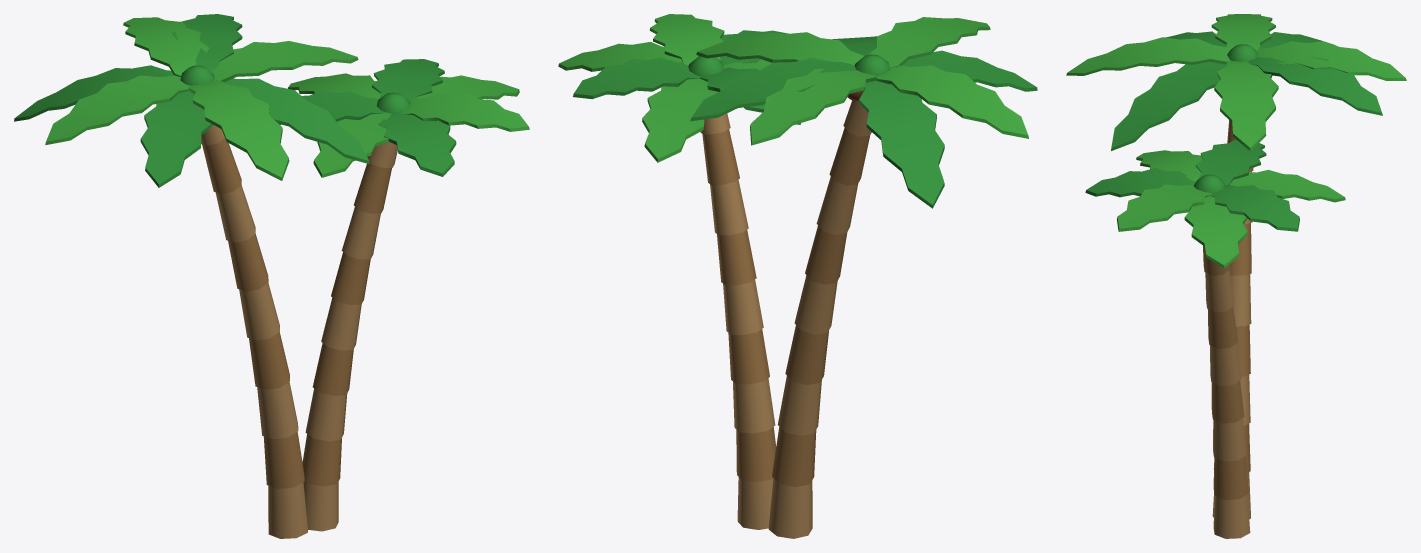
The model's file is tropic-deco2.glb.
The picture shows the model from 3 angles, left to right: view 1: azimuth 30°, elevation 25°; view 2: azimuth 150°, elevation 25°; view 3: azimuth 270°, elevation 25°; orthographic projection. The views are drawn at different scales.
Visible parts, largest first — view 1: tropic-deco2; view 2: tropic-deco2; view 3: tropic-deco2.
Part boxes in pixels (<box>): tropic-deco2: <box>14,14,529,538</box>; tropic-deco2: <box>558,14,1037,538</box>; tropic-deco2: <box>1066,14,1406,538</box>.
Size of the model in its own units: 4.38 by 4.34 by 3.08.
